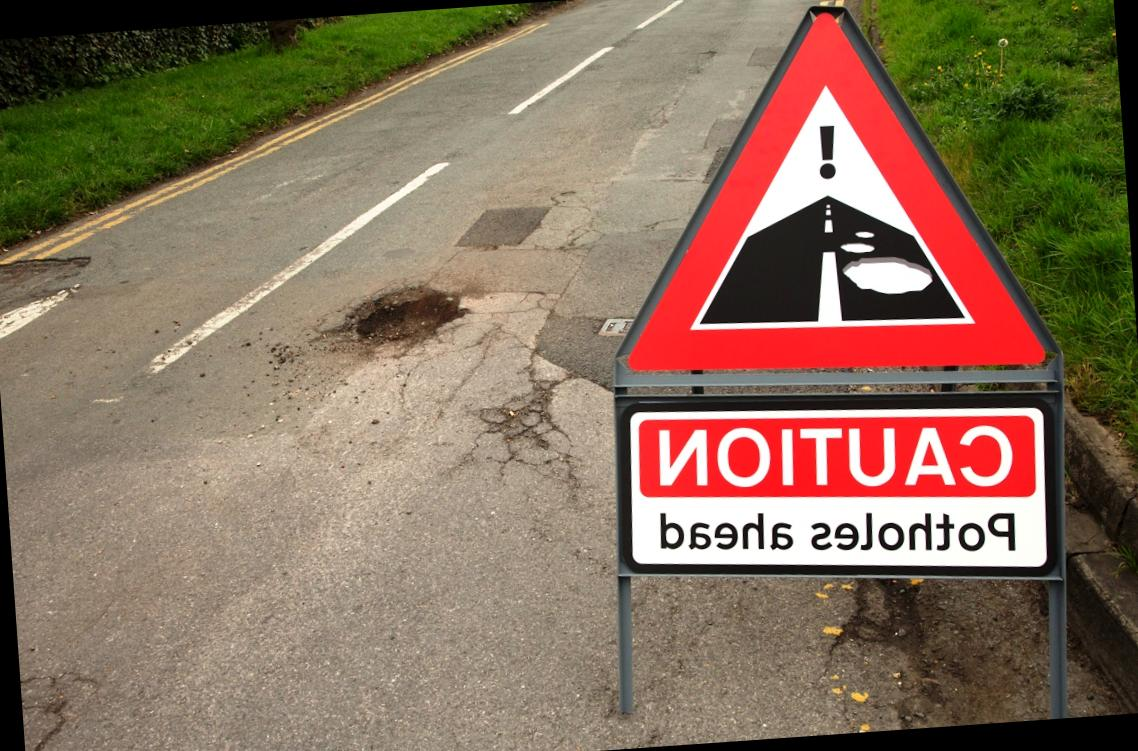pothole: (306, 256, 488, 396), (0, 232, 134, 355)
